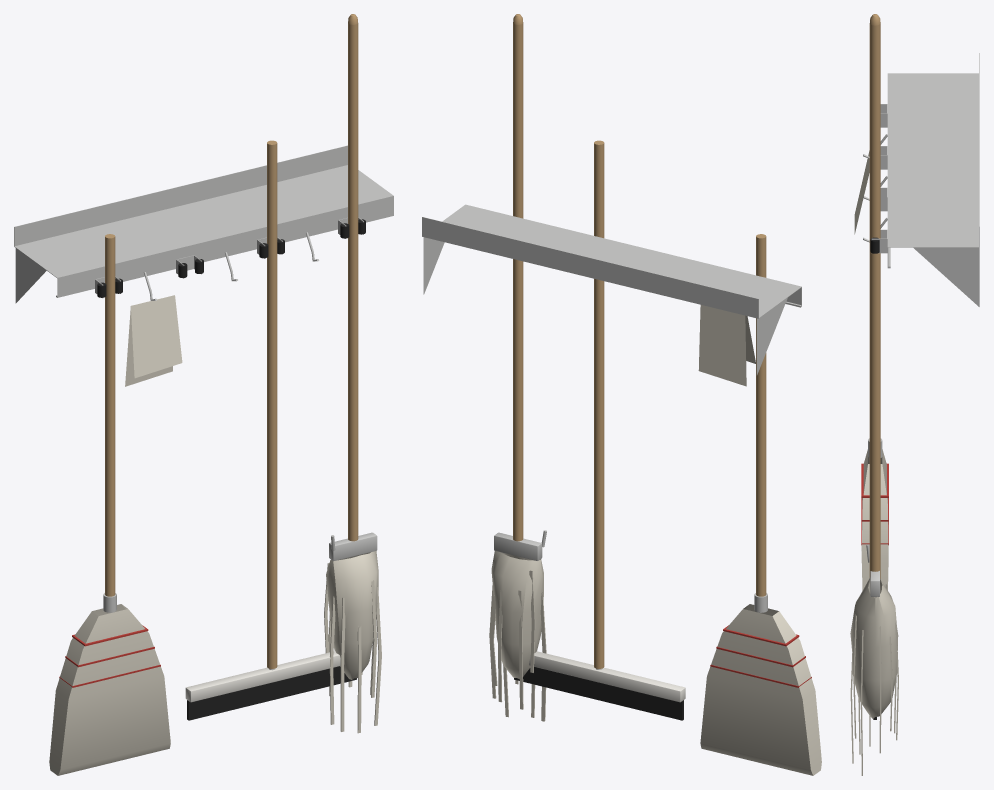
The model's file is Kit_MopRack_OneOut.fbx.
3 renders of one model, left to right at view 1: azimuth 30°, elevation 25°; view 2: azimuth 150°, elevation 25°; view 3: azimuth 270°, elevation 25°, orthographic. The views are drawn at different scales.
Parts seen in each view (by area): view 1: Kit_MopRack_OneOut_LOD0; view 2: Kit_MopRack_OneOut_LOD0; view 3: Kit_MopRack_OneOut_LOD0.
Part boxes in pixels (left/top/right/bottom): Kit_MopRack_OneOut_LOD0: left=14, top=14, right=393, bottom=775; Kit_MopRack_OneOut_LOD0: left=422, top=14, right=821, bottom=775; Kit_MopRack_OneOut_LOD0: left=850, top=14, right=979, bottom=775.
Size of what is drawn, in the model's own units: 0.939 by 1.85 by 0.2871.
